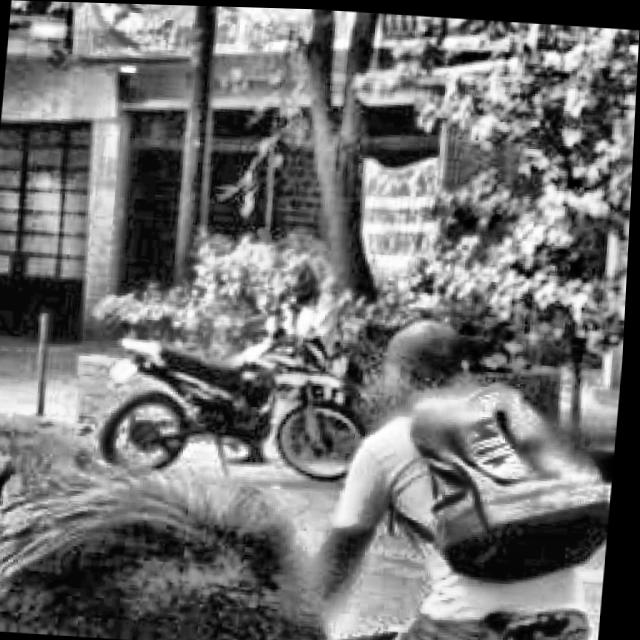bike: (323, 579, 605, 640)
motorcycle: (65, 257, 417, 490)
